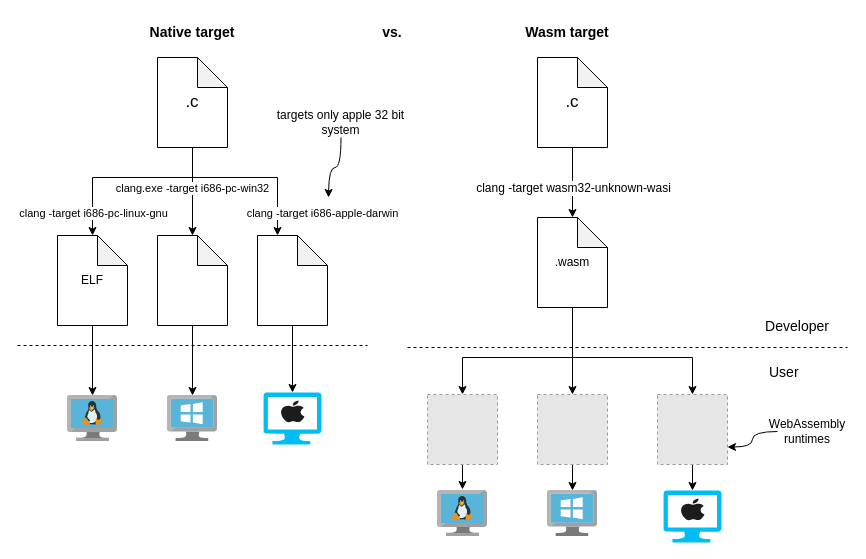
This 866x559 diagram has some shape labels left out. Grey dashed boxes stand in for pictures. The shapes that lost their labels are listed below. From the top down, each one's centre as x and y in pixels, then its label:
point 192,280: PE
point 292,280: Mach-O
